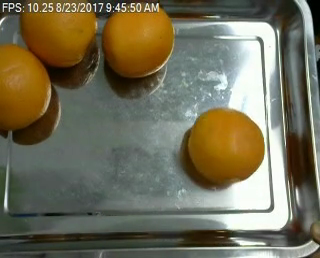Orange: (187, 105, 264, 184), (102, 6, 176, 78)
